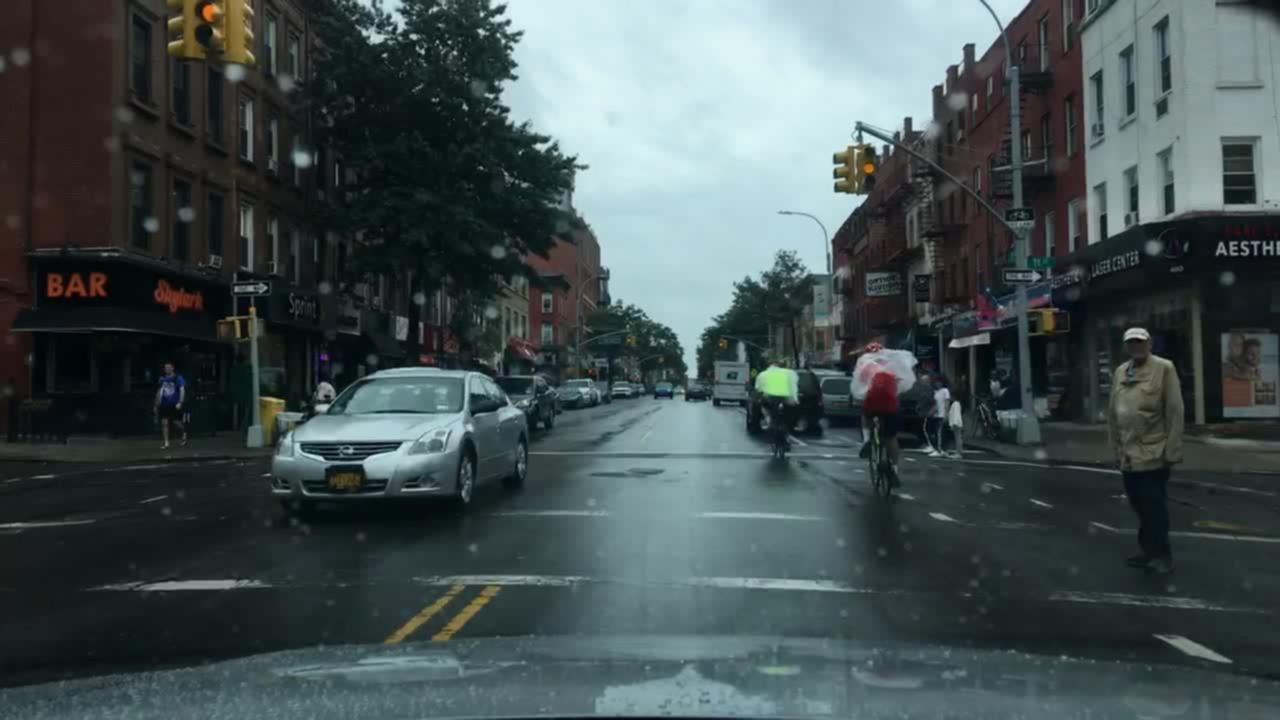Nissan: (331, 443, 360, 459)
